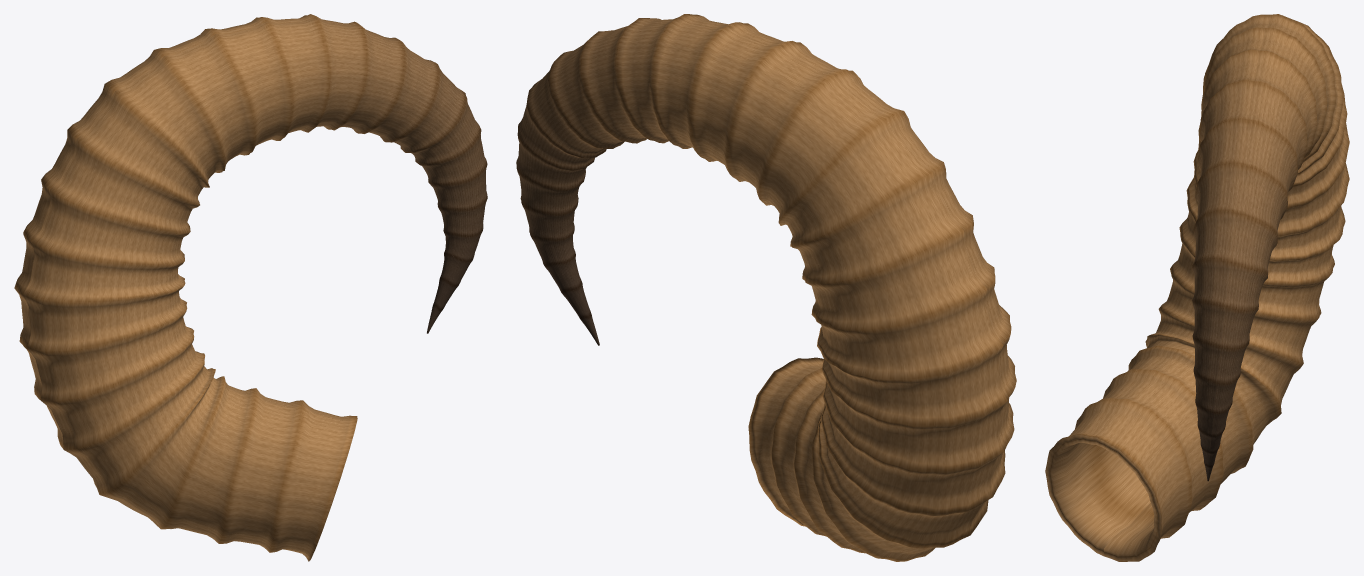
The model's file is curl_horn.glb.
3 views of the same model, side by side, from view 1: azimuth 30°, elevation 25°; view 2: azimuth 150°, elevation 25°; view 3: azimuth 270°, elevation 25° (orthographic). The views are drawn at different scales.
Visible parts, largest first — view 1: Weathered amber goat horn growth layers; view 2: Weathered amber goat horn growth layers; view 3: Weathered amber goat horn growth layers.
Boxes of the visible parts, box(x1,y1,x2,y2) form: Weathered amber goat horn growth layers: box(14, 14, 487, 561); Weathered amber goat horn growth layers: box(516, 14, 1016, 561); Weathered amber goat horn growth layers: box(1045, 14, 1349, 561).
Size of the model in its own units: 0.4037 by 0.4205 by 0.2219.
1 material, 1 textured.
